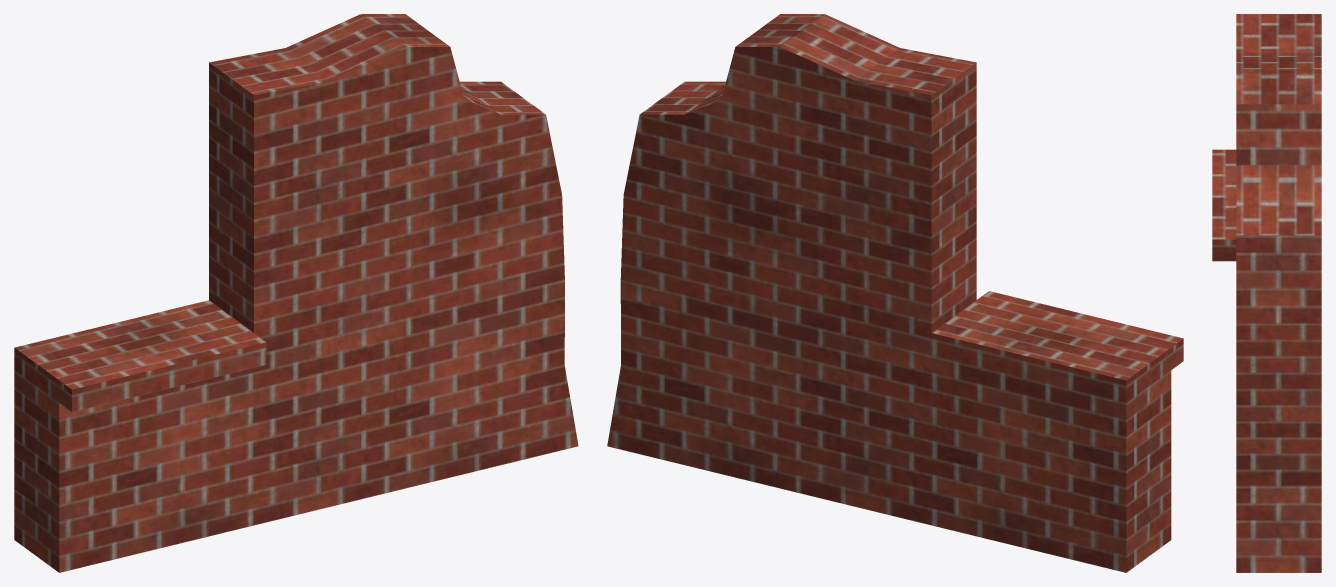
File: debris_nyc_brick_wall.glb
3 renders of one model, left to right at view 1: azimuth 30°, elevation 25°; view 2: azimuth 150°, elevation 25°; view 3: azimuth 270°, elevation 25°, orthographic. The views are drawn at different scales.
Visible parts, largest first — view 1: debris_nyc_brick_wall; view 2: debris_nyc_brick_wall; view 3: debris_nyc_brick_wall.
Part boxes in pixels (x1,y1,x2,y2): debris_nyc_brick_wall: [14, 14, 578, 572]; debris_nyc_brick_wall: [607, 14, 1183, 572]; debris_nyc_brick_wall: [1212, 14, 1321, 572].
Size of the model in its own units: 2.4 by 1.95 by 0.46.
1 material, 1 textured.
